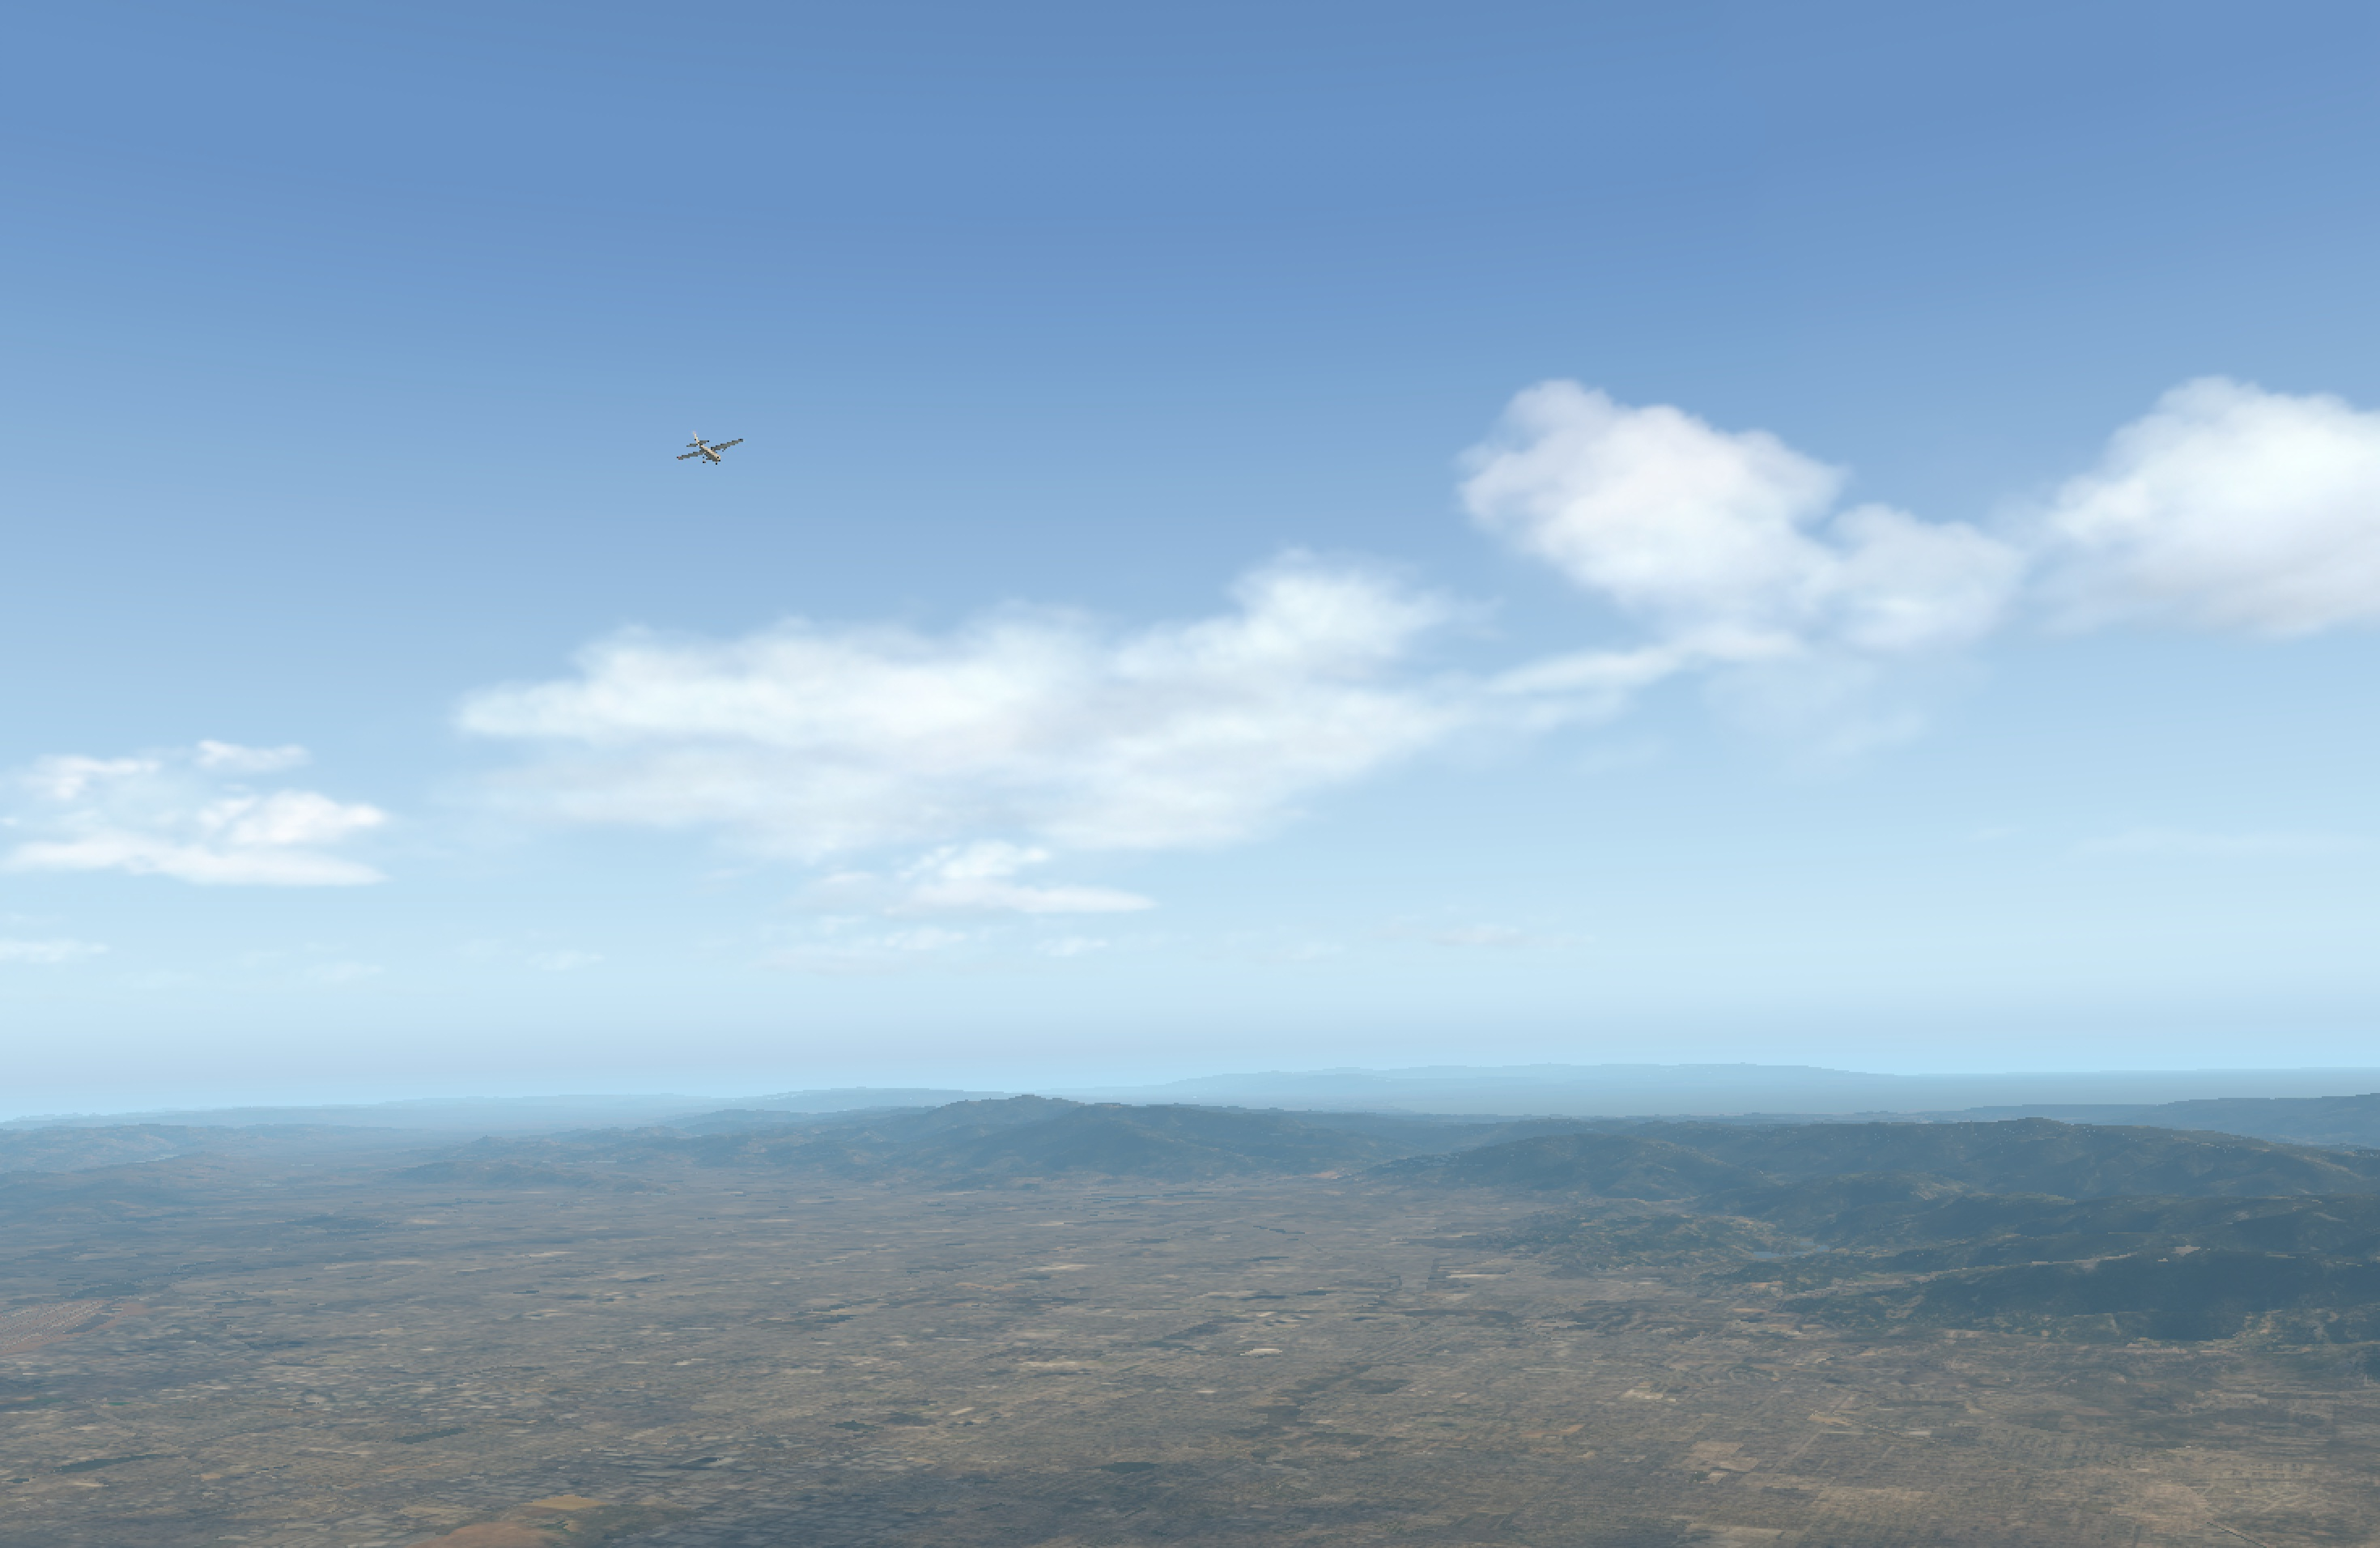aircraft: (687, 444, 736, 463)
